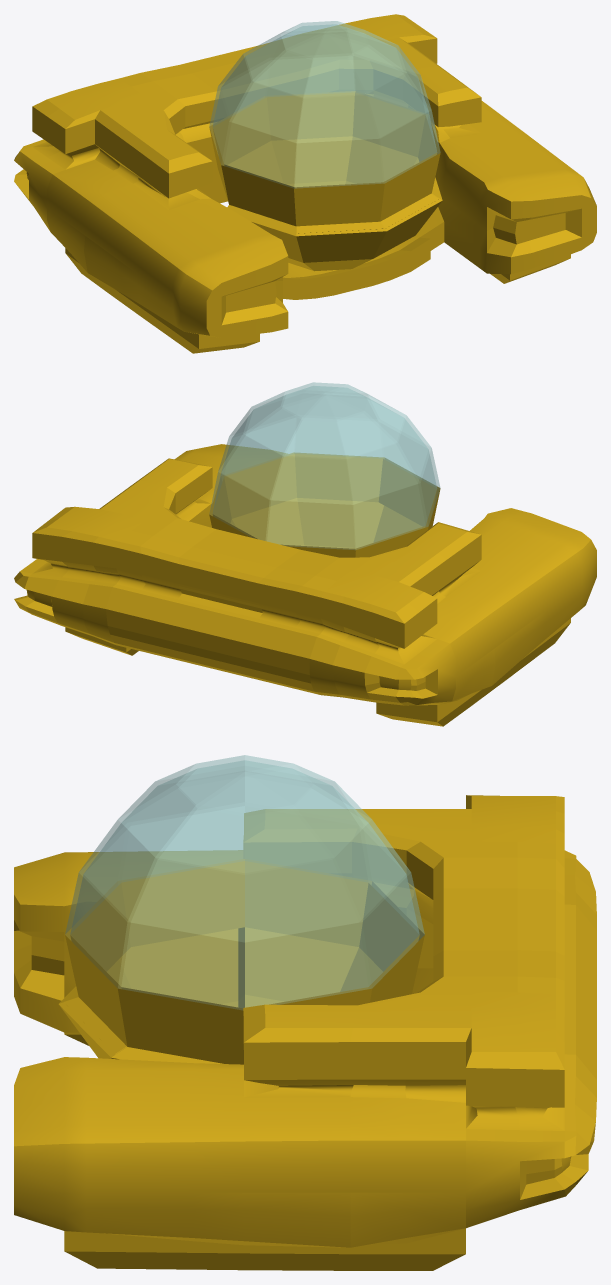
The model's file is submarino2.fbx.
3 renders of one model, top to bottom at view 1: azimuth 30°, elevation 25°; view 2: azimuth 150°, elevation 25°; view 3: azimuth 270°, elevation 25°, orthographic. The views are drawn at different scales.
Visible parts, largest first — view 1: pasted__pCube2, pSphere2, pSphere3; view 2: pasted__pCube2, pSphere2, pSphere3; view 3: pasted__pCube2, pSphere2, pSphere3.
Boxes of the visible parts, x1=… form: pasted__pCube2: x1=14, y1=14, x2=596, y2=353; pSphere2: x1=209, y1=21, x2=442, y2=271; pSphere3: x1=212, y1=24, x2=438, y2=233; pasted__pCube2: x1=14, y1=444, x2=596, y2=726; pSphere2: x1=209, y1=382, x2=440, y2=557; pSphere3: x1=212, y1=386, x2=437, y2=550; pasted__pCube2: x1=14, y1=795, x2=596, y2=1270; pSphere2: x1=58, y1=755, x2=424, y2=1064; pSphere3: x1=64, y1=760, x2=419, y2=1054.
Size of the model in its own units: 30.59 by 17.68 by 24.97.
